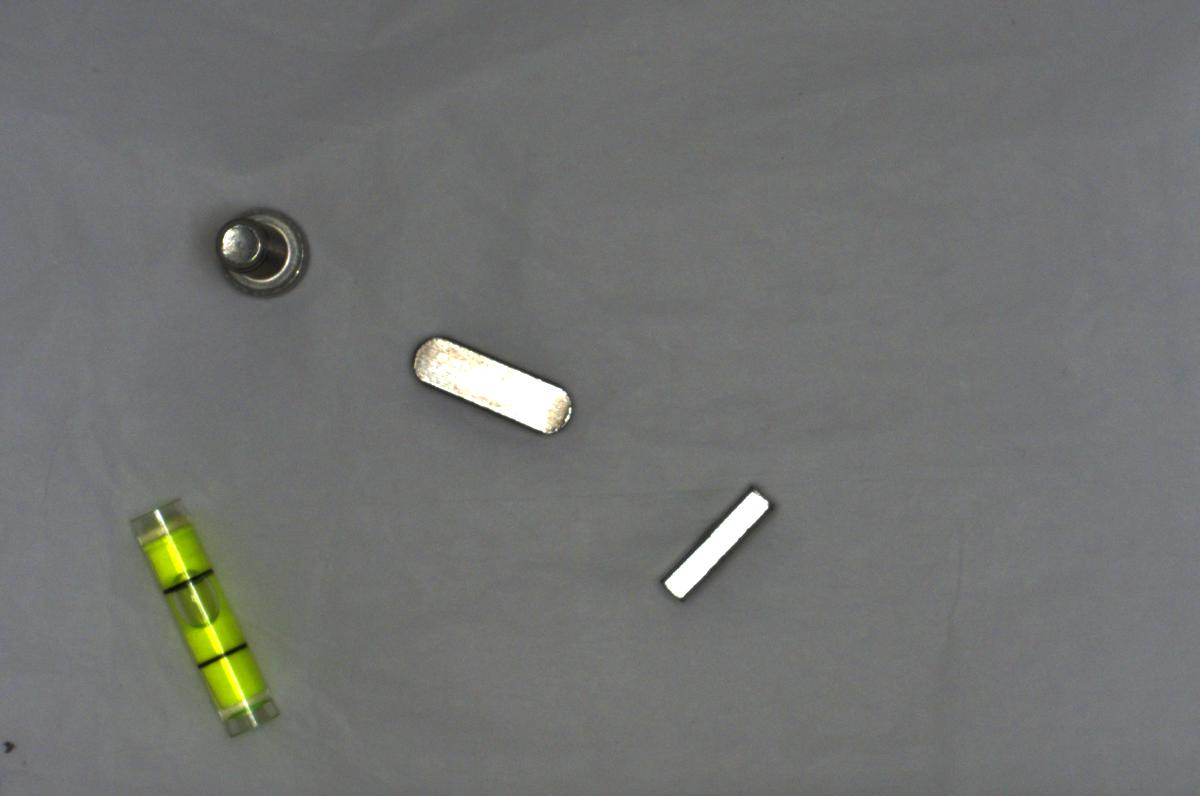Hexagon screw: (211, 198, 311, 302)
Horizontal bubble: (111, 498, 281, 747)
Keybar: (394, 319, 577, 447)
Rectangular nut: (645, 475, 784, 599)
